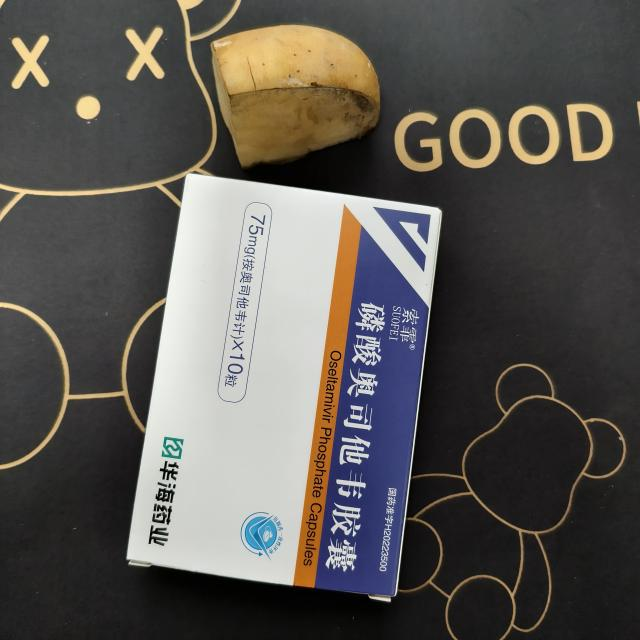-Kitchen waste - potato-: (210, 19, 388, 151)
-Recyclables - paper box-: (125, 171, 442, 603)
